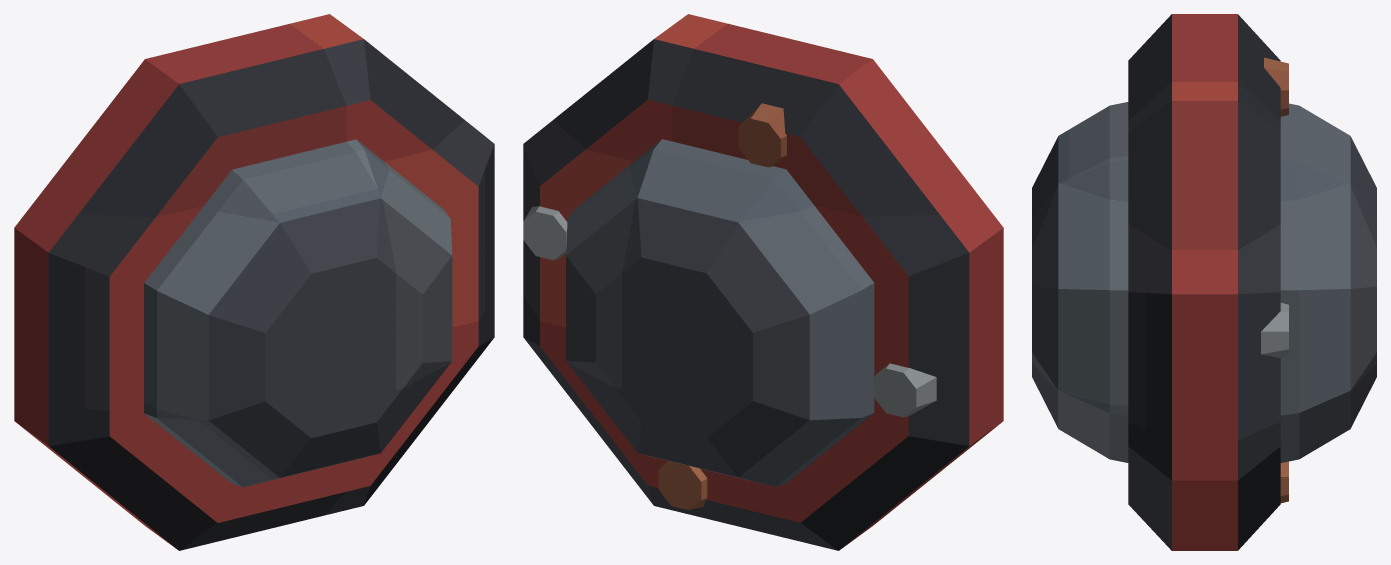
Rendered from switchlink_pearl.obj.
The picture shows the model from 3 angles, left to right: view 1: azimuth 30°, elevation 25°; view 2: azimuth 150°, elevation 25°; view 3: azimuth 270°, elevation 25°; orthographic projection. The views are drawn at different scales.
Parts seen in each view (by area): view 1: brass_band, back_of_pearl; view 2: brass_band, green_pearl, coloured_setting; view 3: brass_band, back_of_pearl, green_pearl, coloured_setting.
Part boxes in pixels (x1,y1,x2,y2): brass_band: (14,14,494,550); back_of_pearl: (144,139,452,486); brass_band: (523,14,1003,550); green_pearl: (566,139,874,486); coloured_setting: (523,103,936,510); brass_band: (1128,14,1280,550); back_of_pearl: (1032,102,1128,462); green_pearl: (1280,103,1376,462); coloured_setting: (1261,57,1288,503).
Size of the model in its own units: 0.3996 by 0.3996 by 0.2775.
